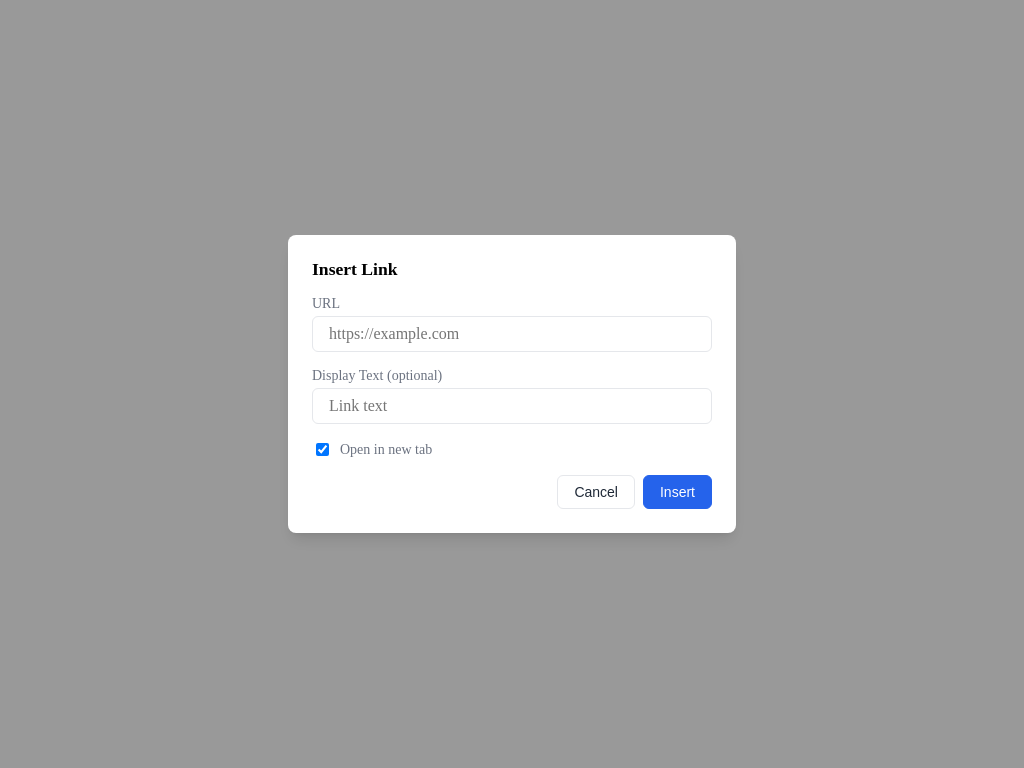
RTLinkDialog › validates empty URL and shows error
// URL field is empty by default, click submit
Click the button with test id "rte-link-submit-btn" at (678, 492), box [643,475,712,509]
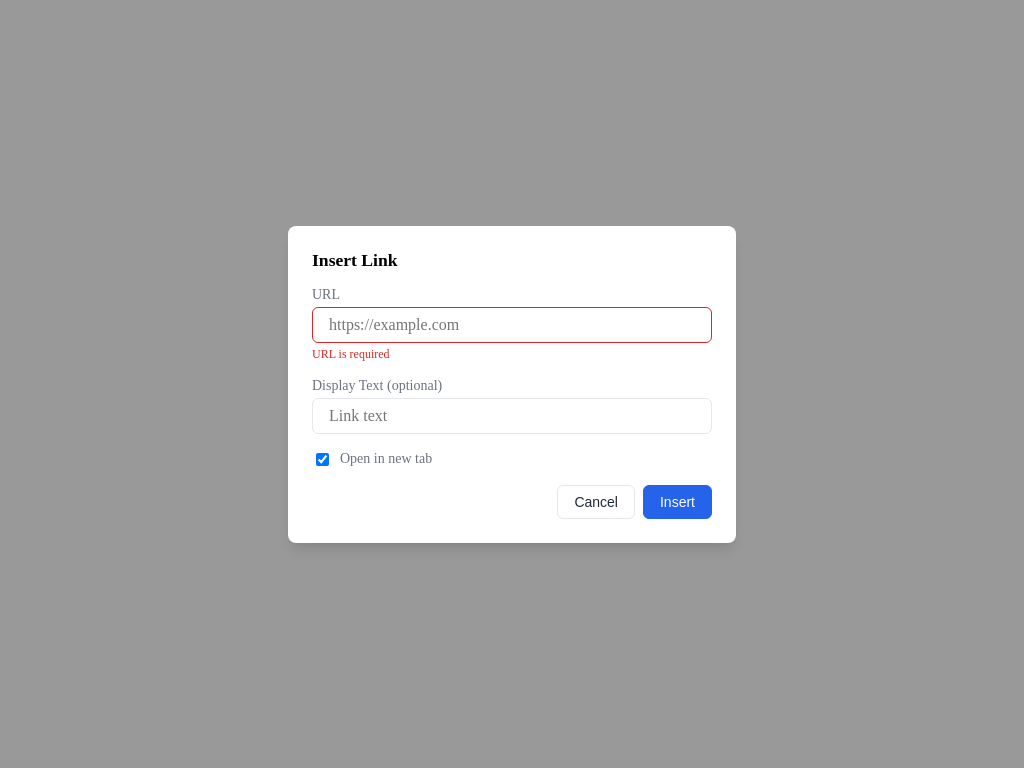
expect the message "URL is required" is shown: met, box [312,346,390,360]
